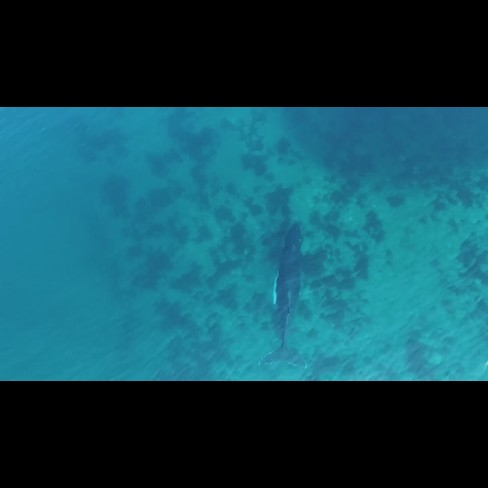hump: (254, 219, 310, 375)
